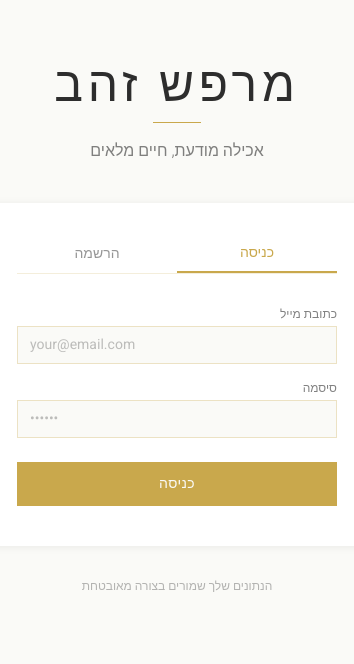
Property 2: Preservation - Error Handling and Display › PRESERVATION: Should display error message when registration fails
Switch to registration mode
Click the button "הרשמה" at {"x": 97, "y": 258}, box [17,243,177,273]
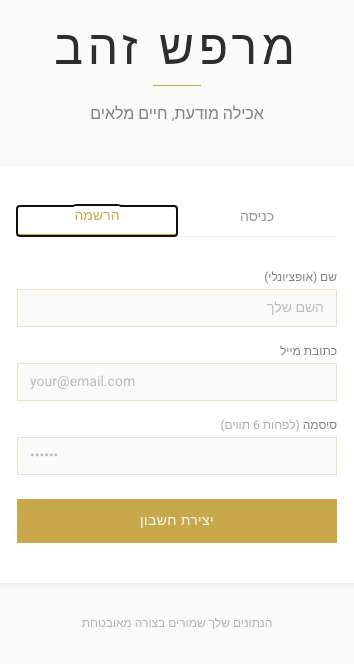
Type "existing@example.com" into the field labelled "כתובת מייל" at {"x": 177, "y": 382}, box [17,363,337,401]
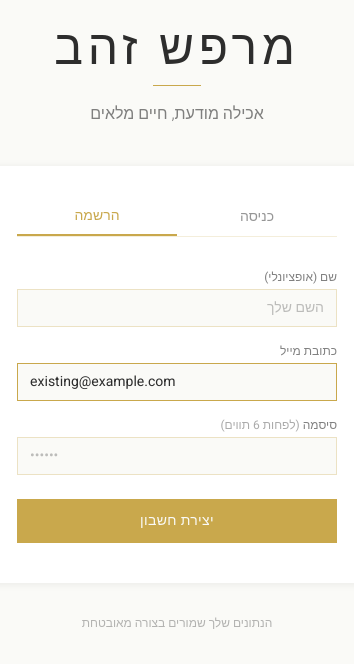
Type "password123" into the password field labelled "סיסמה (לפחות 6 תווים)" at {"x": 177, "y": 456}, box [17,437,337,475]
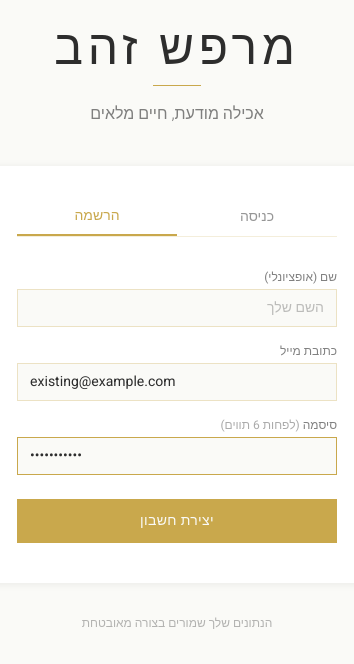
Click the button with aria-label "יצירת חשבון חדש" at {"x": 177, "y": 521}, box [17,499,337,543]
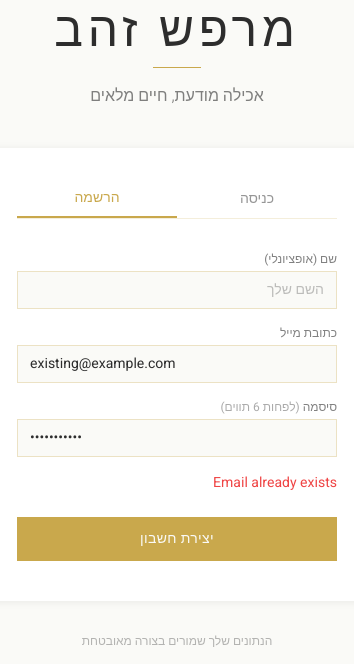
Result: the message reads "Email already exists" at [213,472,337,493]
